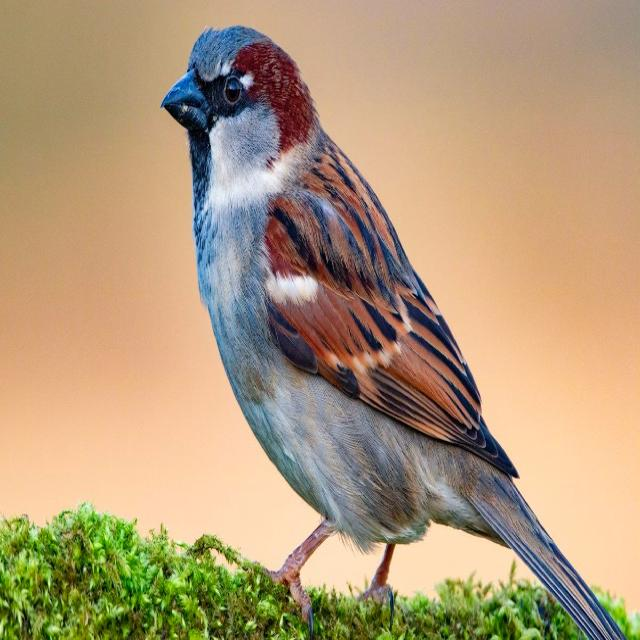sparrow: (162, 26, 623, 639)
